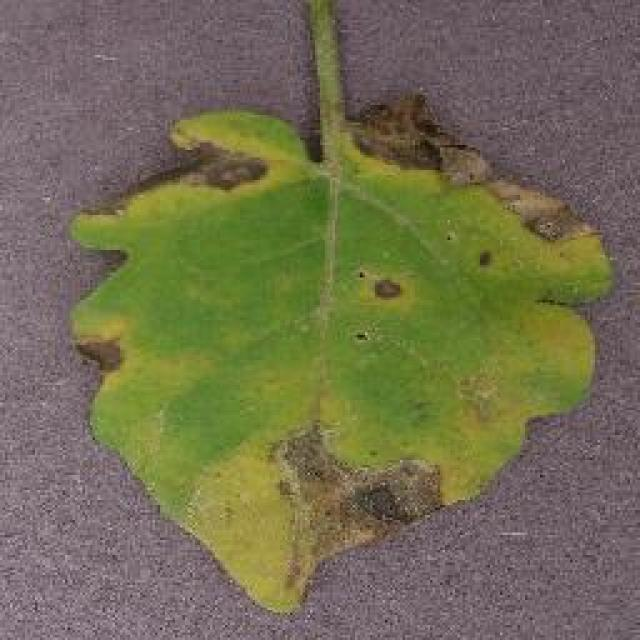Tomato___Septoria_leaf_spot: (72, 0, 608, 610)
